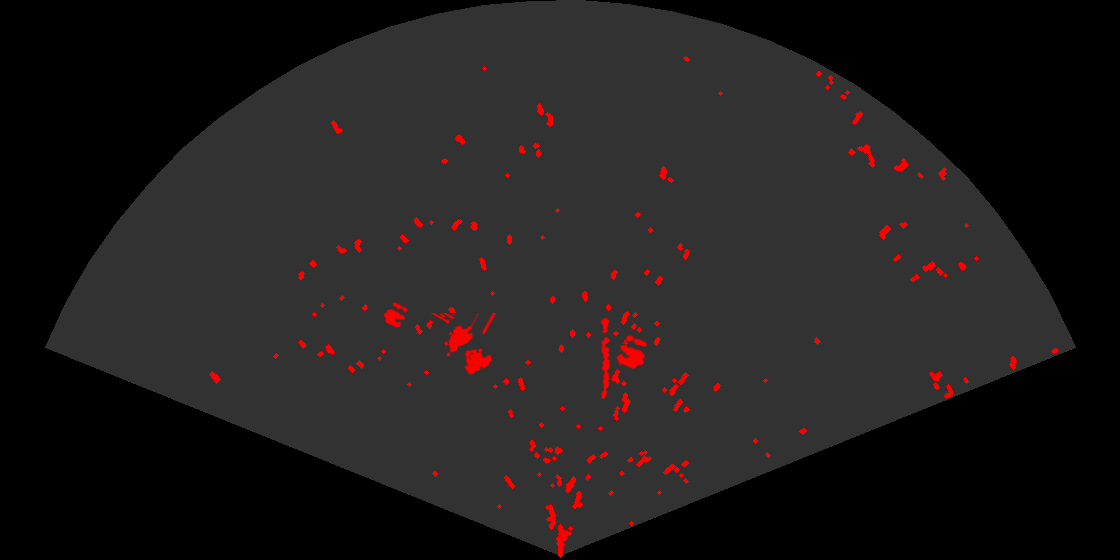ball: (615, 333, 649, 371), (382, 300, 410, 330)
cage: (429, 313, 498, 376)
chain: (599, 317, 612, 400)
